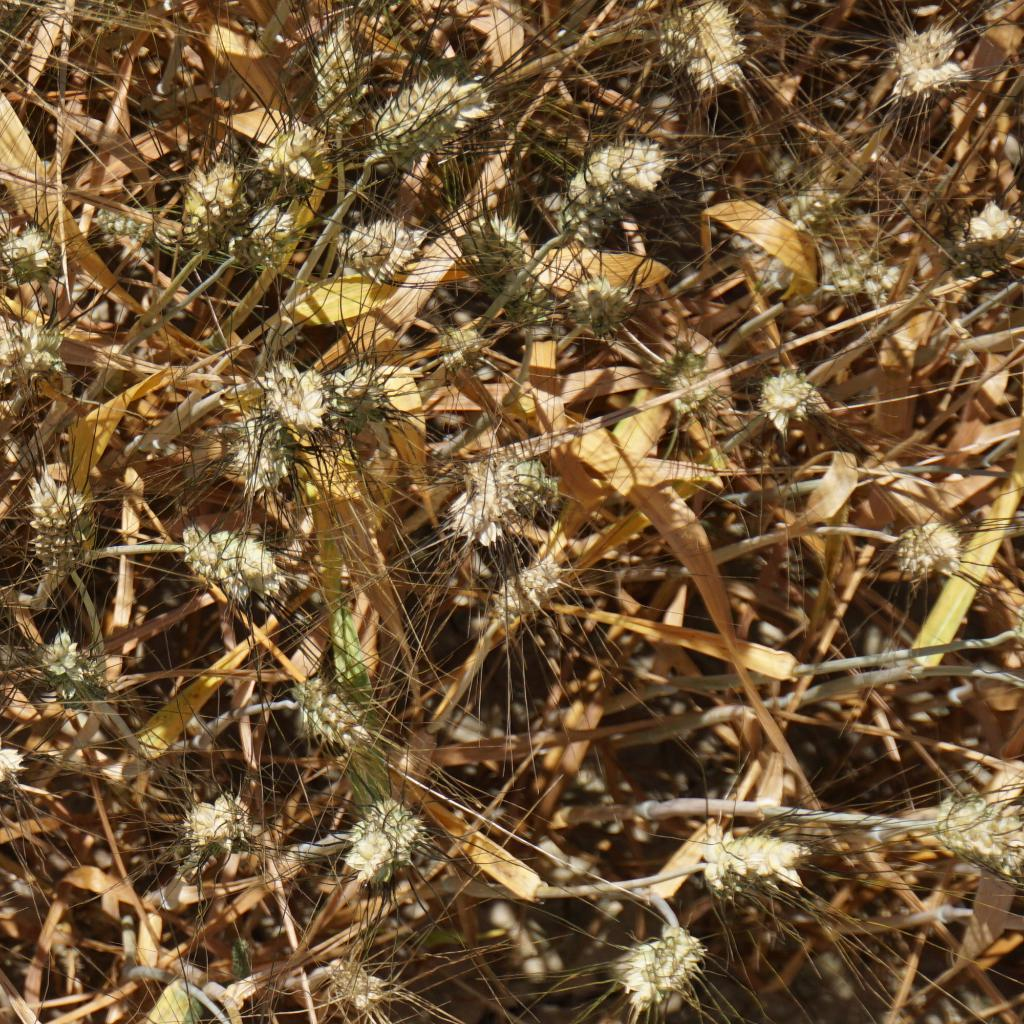0-0: (543, 133, 677, 249), (371, 62, 506, 159), (640, 0, 758, 102), (288, 11, 384, 131), (881, 16, 978, 112), (172, 513, 280, 598), (700, 822, 809, 900), (455, 208, 534, 305), (327, 807, 422, 886), (605, 923, 696, 1005), (771, 164, 869, 236), (817, 236, 903, 318), (484, 554, 576, 630), (925, 800, 1024, 870), (21, 480, 92, 571), (758, 361, 832, 442), (287, 678, 367, 751), (551, 265, 634, 334), (655, 331, 719, 420), (88, 194, 173, 259), (896, 518, 972, 589), (0, 324, 69, 400), (0, 216, 65, 295), (263, 359, 332, 432), (177, 789, 252, 856), (227, 419, 294, 490), (444, 459, 503, 539), (345, 217, 415, 283), (231, 207, 300, 271), (36, 630, 98, 699), (967, 196, 1024, 270), (493, 453, 554, 521), (332, 361, 393, 423), (259, 116, 311, 186), (328, 945, 384, 1007), (436, 320, 490, 384), (183, 162, 231, 226), (0, 572, 18, 635)
